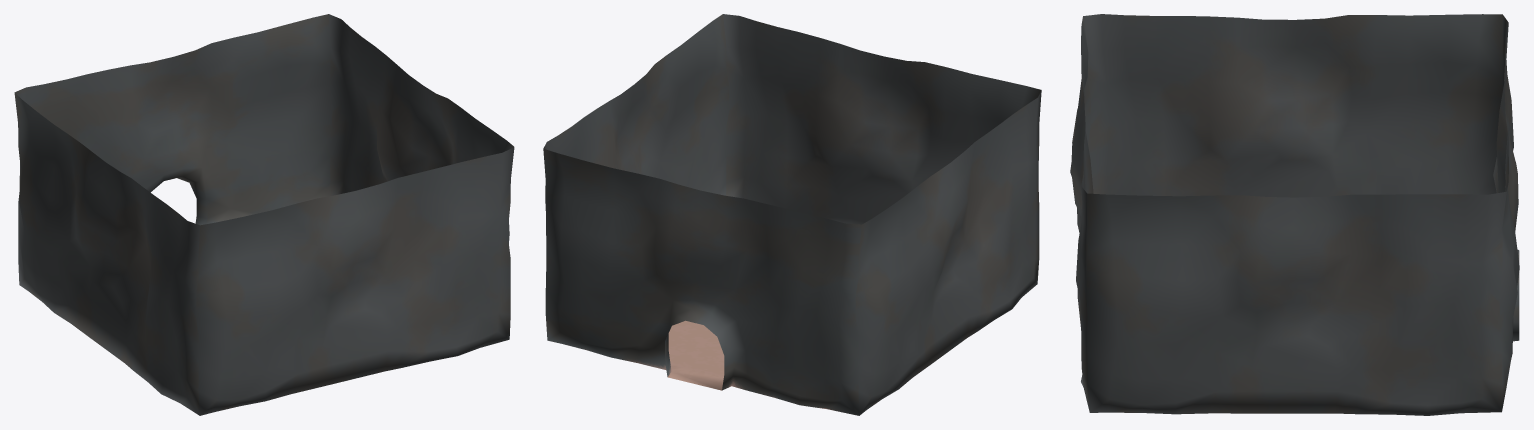
Rendered from AbyssMeshSingle.fbx.
The picture shows the model from 3 angles, left to right: view 1: azimuth 30°, elevation 25°; view 2: azimuth 150°, elevation 25°; view 3: azimuth 270°, elevation 25°; orthographic projection. The views are drawn at different scales.
Parts seen in each view (by area): view 1: RoomMeshSingle; view 2: RoomMeshSingle; view 3: RoomMeshSingle.
Boxes of the visible parts, left/top/right/bottom form: RoomMeshSingle: left=14, top=14, right=514, bottom=415; RoomMeshSingle: left=543, top=14, right=1041, bottom=415; RoomMeshSingle: left=1070, top=14, right=1519, bottom=415.
Size of the model in its own units: 1602 by 871 by 1602.
